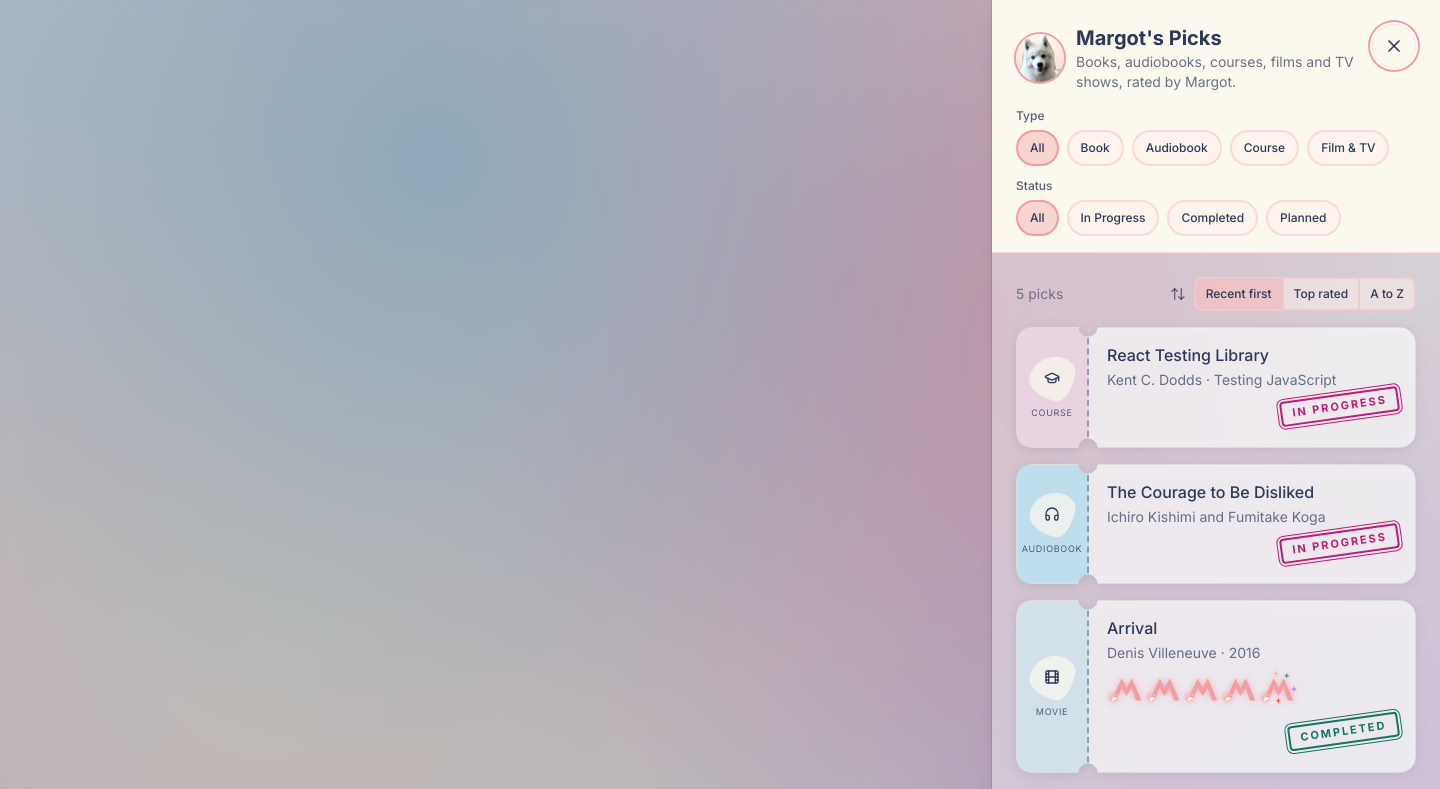
Scenario: MargotsPicks › shows an empty state when nothing matches
The width and height of the screenshot is (1440, 789).
Step 1. Click the button "Audiobook" → (1177, 148), box [1132, 130, 1222, 166]
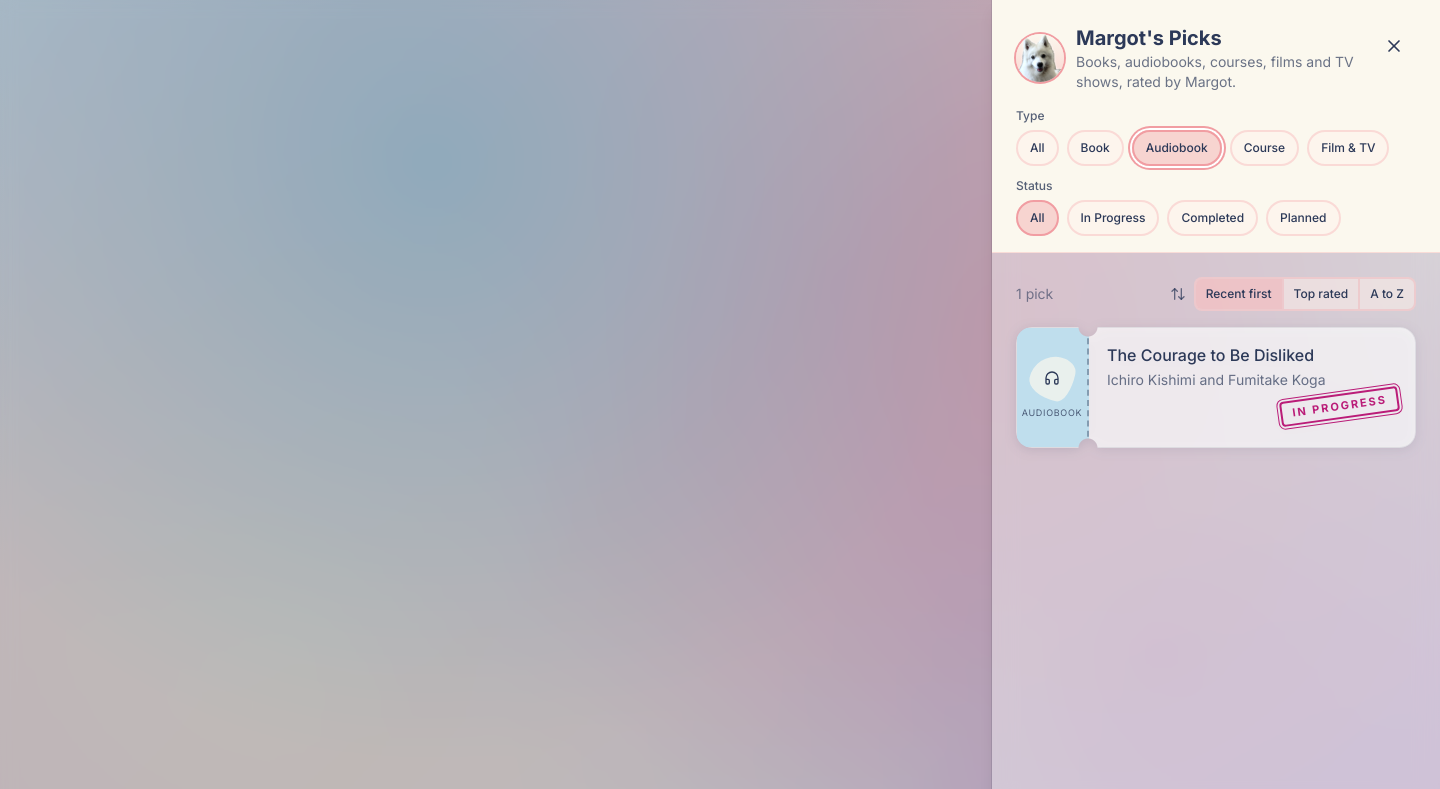
Step 2. Click the button "Completed" → (1213, 218), box [1167, 200, 1258, 236]
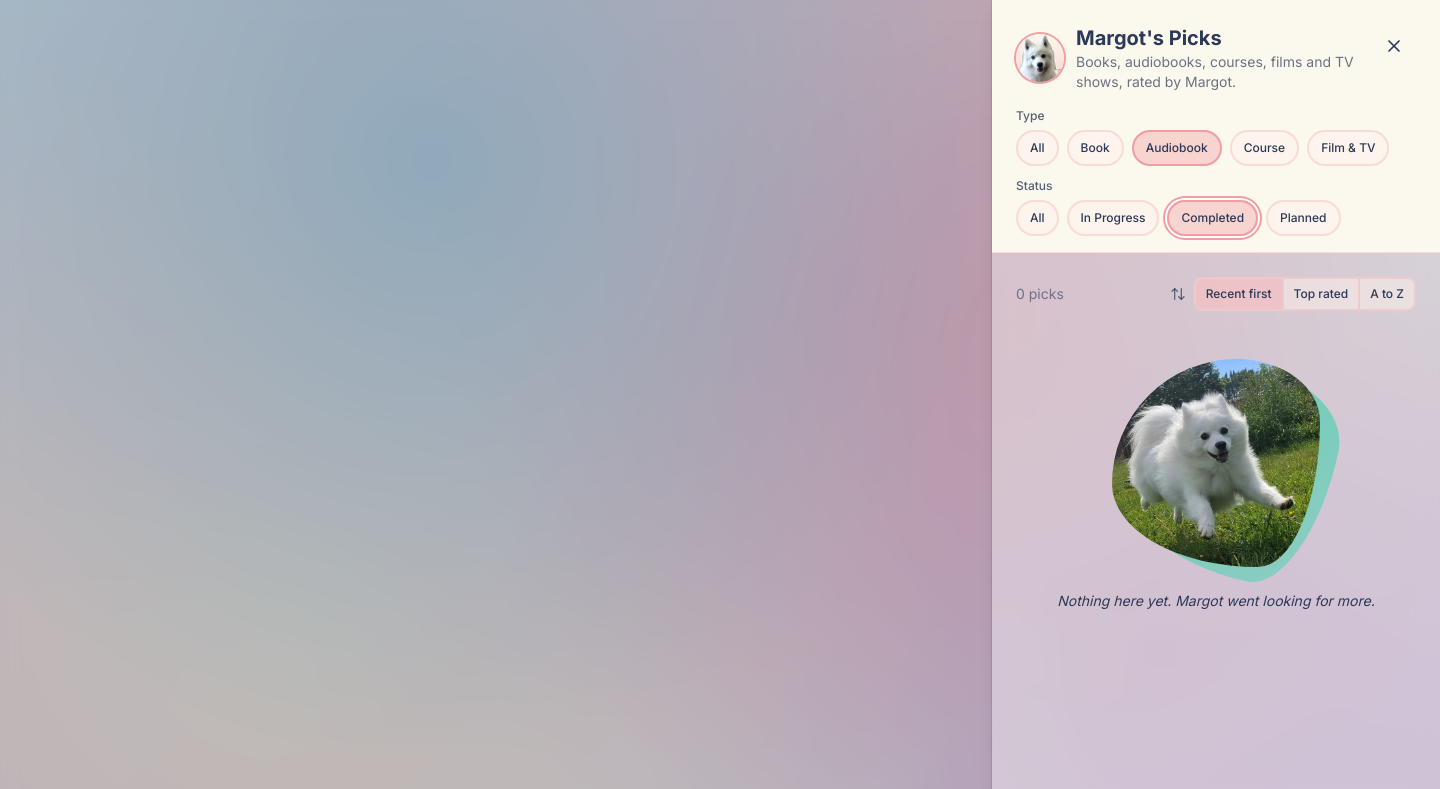
expect the text "Nothing here yet. Margot went looking for more." is shown: met, box [1057, 591, 1375, 611]
expect the picture named "running across the grass" is shown: met, box [1112, 359, 1320, 567]
